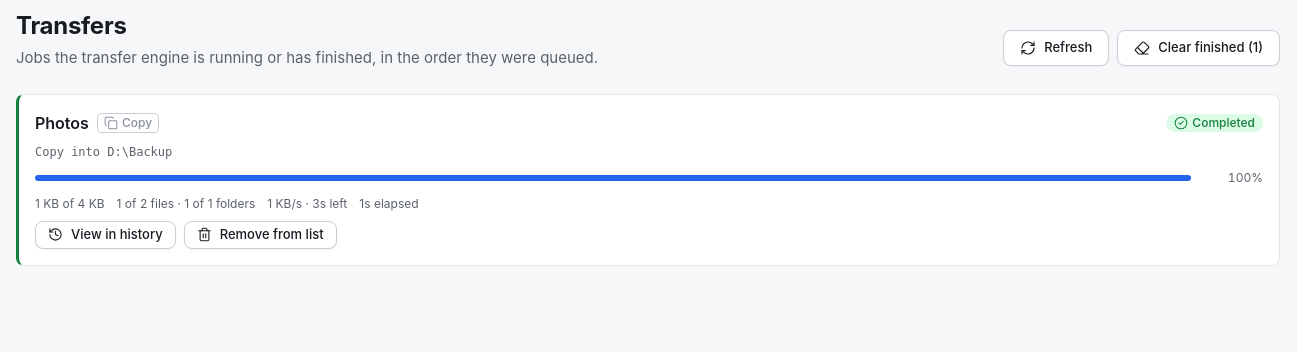
Test case: TransfersPage › drops a finished job from the list
Click the button "Remove from list" at coordinates (260, 234), box [184, 220, 337, 248]
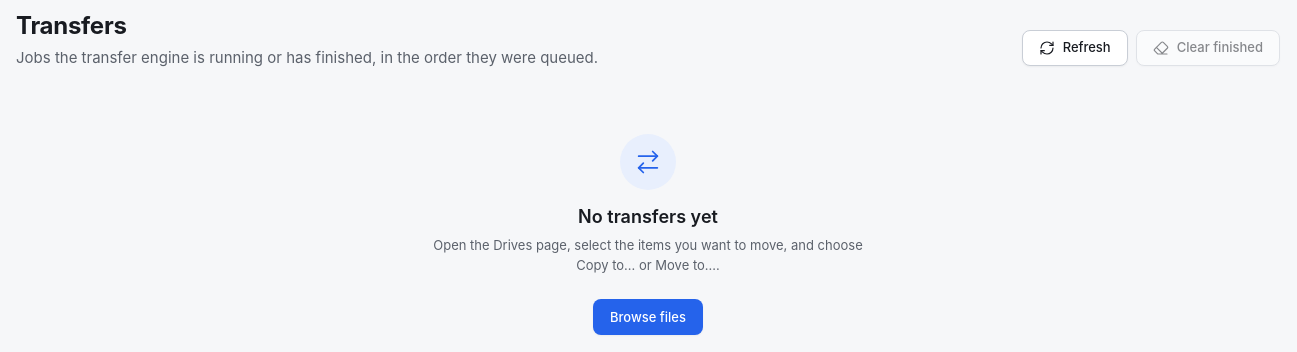
Result: the text "Completed" is gone
Result: the heading "No transfers yet" is shown at [578, 206, 718, 228]
